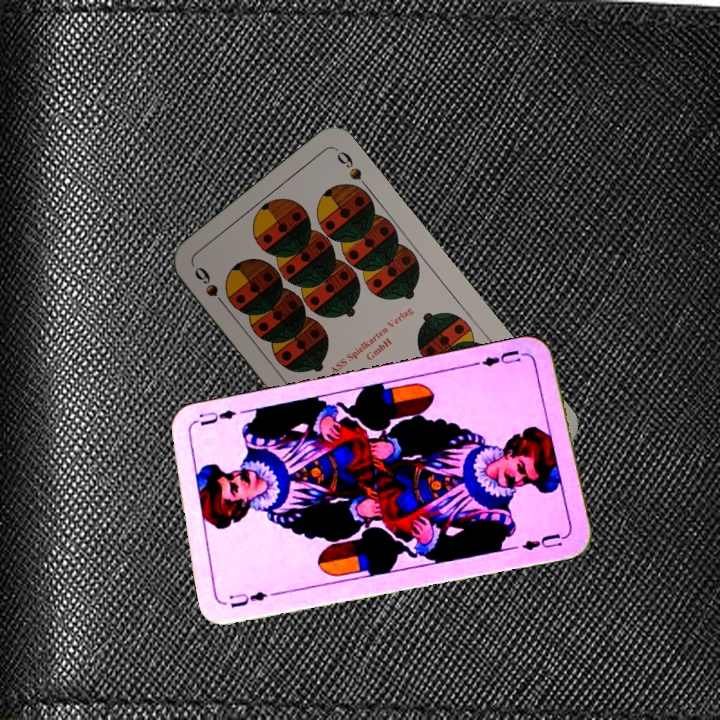EU: (478, 346, 529, 371), (225, 587, 270, 610)
S9: (189, 262, 232, 313)
